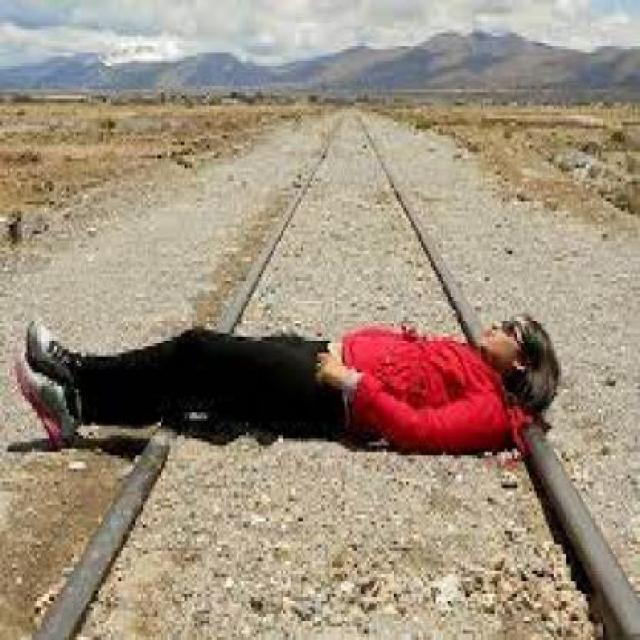danger: (6, 300, 566, 458)
rail: (21, 102, 625, 634)
